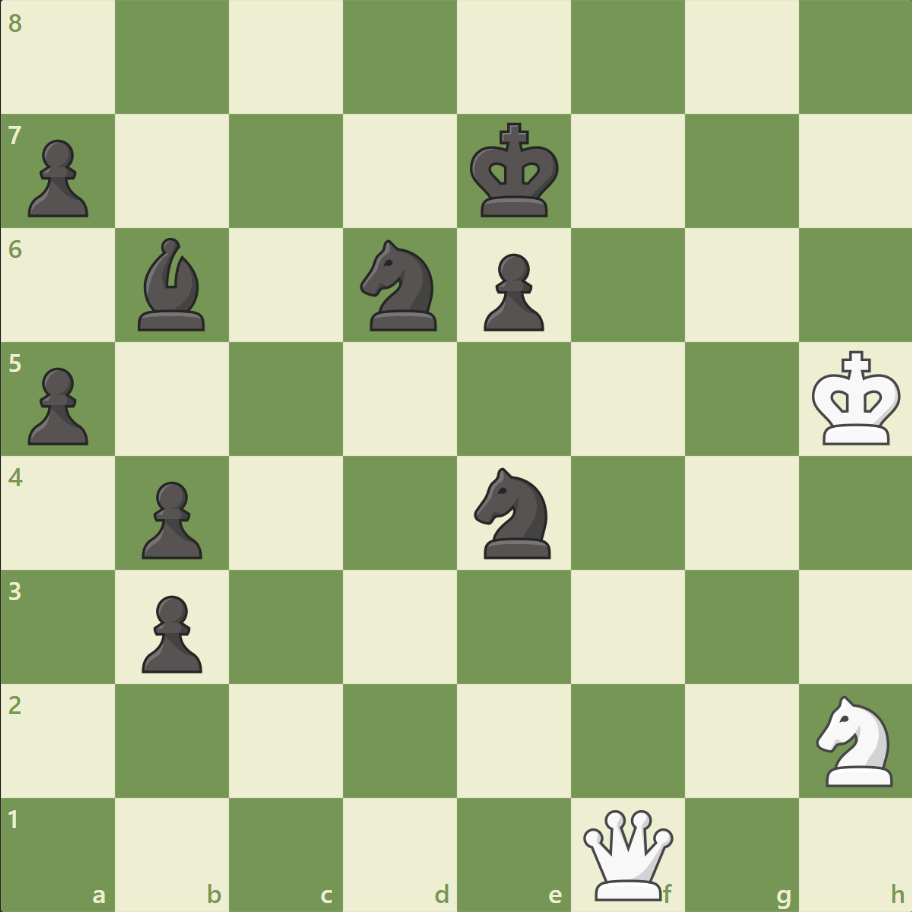K: (806, 344, 906, 452)
N: (806, 688, 903, 791)
Q: (578, 804, 677, 903)
b: (131, 233, 215, 336)
k: (465, 117, 565, 225)
n: (351, 234, 449, 337), (465, 461, 562, 564)
p: (20, 132, 95, 223), (474, 246, 549, 337), (20, 359, 95, 450), (133, 473, 208, 564), (133, 586, 208, 677)
